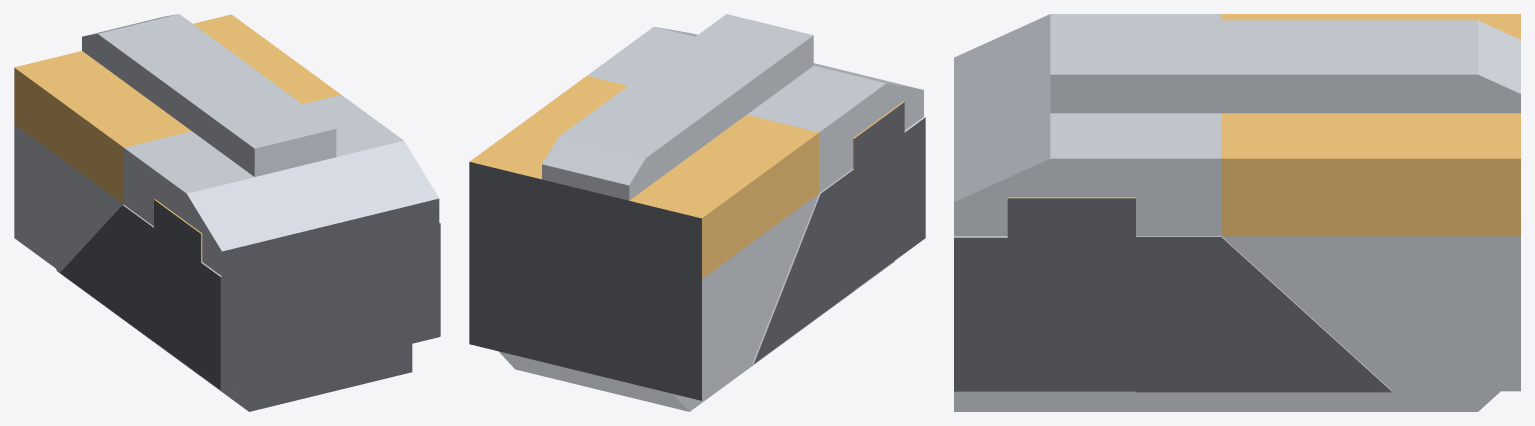
File: fuselage.glb
3 renders of one model, left to right at view 1: azimuth 30°, elevation 25°; view 2: azimuth 150°, elevation 25°; view 3: azimuth 270°, elevation 25°, orthographic. The views are drawn at different scales.
Bounding box in the file's own units: 1.62 × 1.6 × 2.65.
